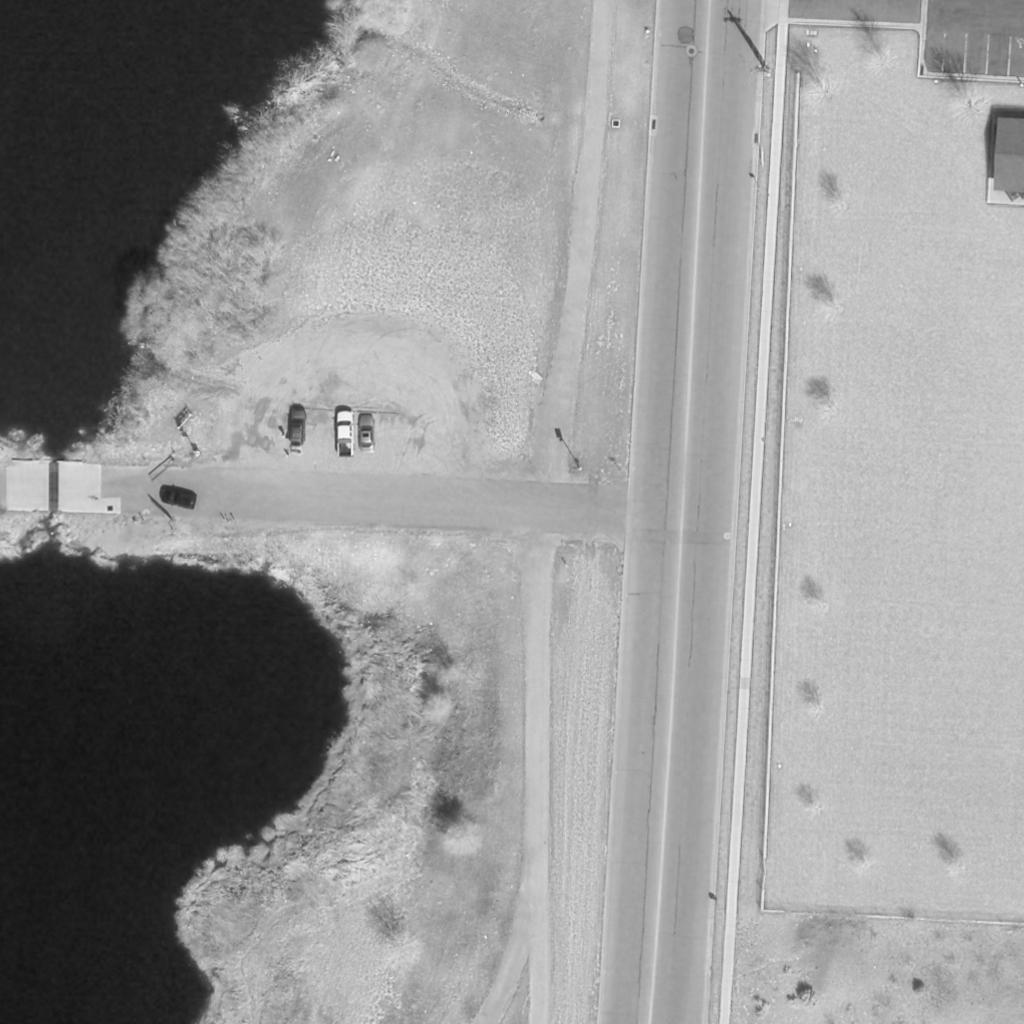vehicle: (333, 410, 357, 460), (161, 486, 199, 510), (356, 413, 376, 455), (289, 408, 307, 446)
